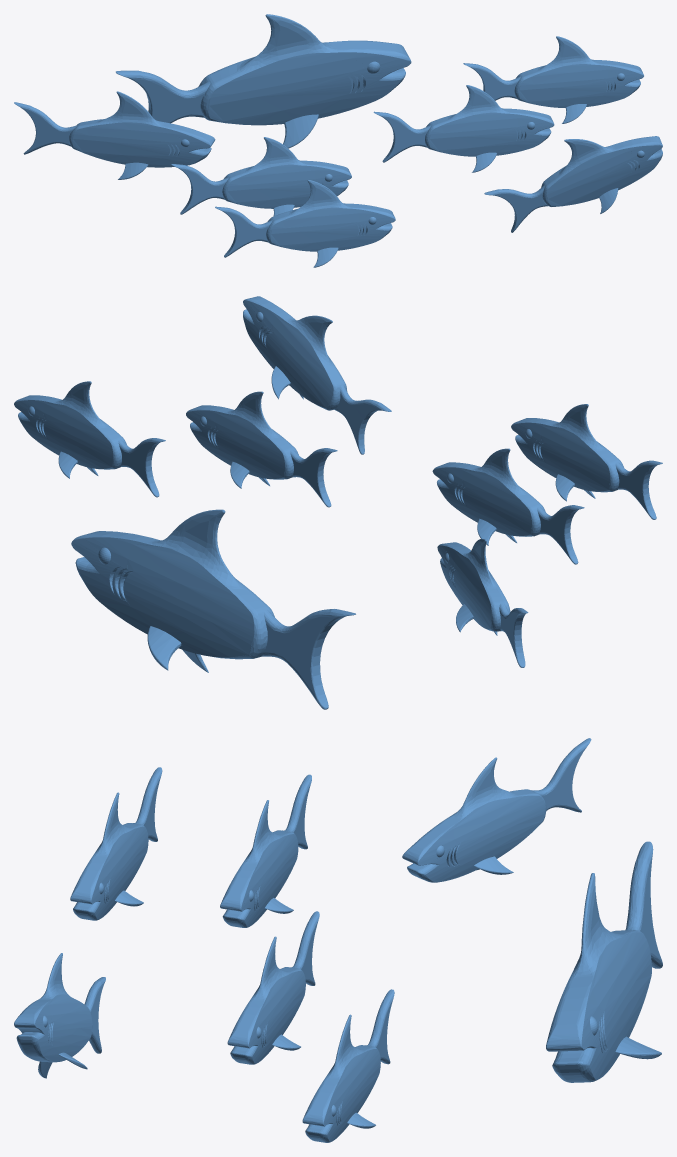
File: SchoolOfSharks.glb
The picture shows the model from 3 angles, top to bottom: view 1: azimuth 30°, elevation 25°; view 2: azimuth 150°, elevation 25°; view 3: azimuth 270°, elevation 25°; orthographic projection. The views are drawn at different scales.
Visible parts, largest first — view 1: Mesh_Mesh_head_geo.001_lambert2SG.001; view 2: Mesh_Mesh_head_geo.001_lambert2SG.001; view 3: Mesh_Mesh_head_geo.001_lambert2SG.001.
Boxes of the visible parts, x1=… form: Mesh_Mesh_head_geo.001_lambert2SG.001: x1=14, y1=14, x2=662, y2=267; Mesh_Mesh_head_geo.001_lambert2SG.001: x1=14, y1=296, x2=662, y2=709; Mesh_Mesh_head_geo.001_lambert2SG.001: x1=14, y1=738, x2=662, y2=1142.
Bounding box in the file's own units: 167 × 42.17 × 130.
